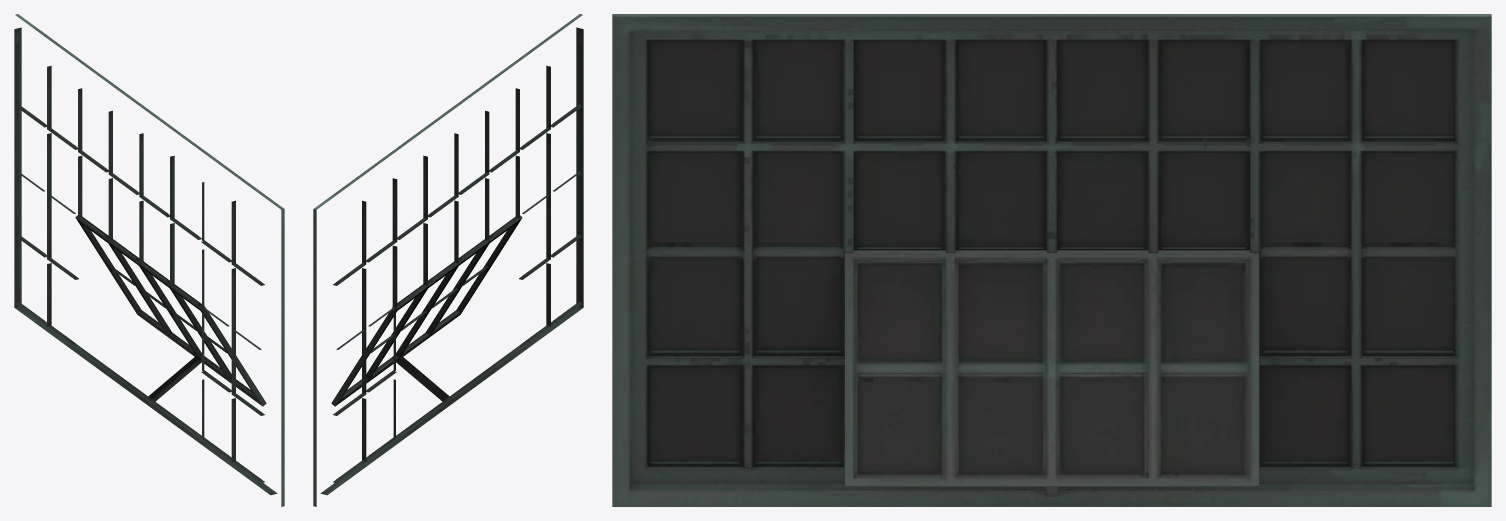
3 views of the same model, side by side, from view 1: azimuth 30°, elevation 25°; view 2: azimuth 150°, elevation 25°; view 3: azimuth 270°, elevation 25° (orthographic). The views are drawn at different scales.
Parts seen in each view (by area): view 1: body0_model0_lod0_mesh0; view 2: body0_model0_lod0_mesh0; view 3: body0_model0_lod0_mesh0.
Part boxes in pixels (x1,y1,x2,y2): body0_model0_lod0_mesh0: (14, 14, 284, 506); body0_model0_lod0_mesh0: (313, 14, 583, 506); body0_model0_lod0_mesh0: (612, 14, 1491, 506).
Size of the model in its own units: 29.73 by 128 by 208.
Materials: 1 (1 with a texture image).
